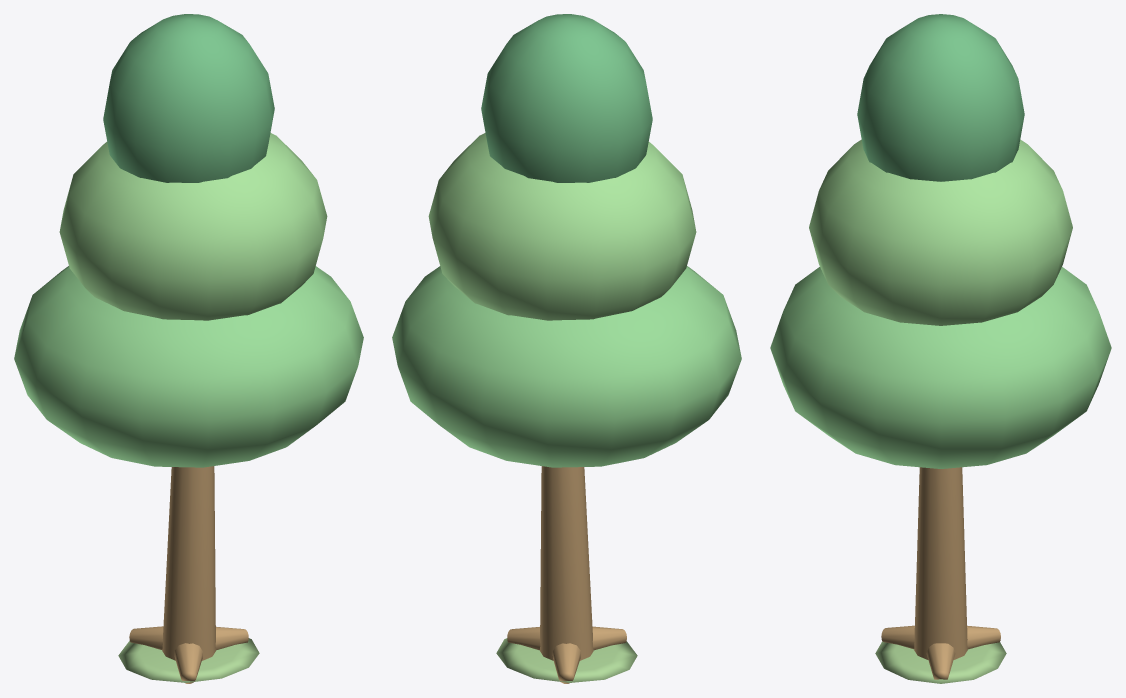
The model's file is tree_v3_summer.glb.
3 renders of one model, left to right at view 1: azimuth 30°, elevation 25°; view 2: azimuth 150°, elevation 25°; view 3: azimuth 270°, elevation 25°, orthographic.
Parts seen in each view (by area): view 1: Base_Canopy (×3), Base_Trunk, GroundAccent, Base_Root (×3); view 2: Base_Canopy (×3), Base_Trunk, GroundAccent, Base_Root (×3); view 3: Base_Canopy (×3), Base_Trunk, GroundAccent, Base_Root (×3).
Part boxes in pixels (box(x1,y1,x2,y2)): Base_Canopy (×3): box(14, 14, 363, 467); Base_Trunk: box(162, 466, 215, 660); GroundAccent: box(118, 638, 259, 682); Base_Root (×3): box(129, 626, 248, 683); Base_Canopy (×3): box(392, 14, 741, 467); Base_Trunk: box(540, 466, 593, 660); GroundAccent: box(496, 638, 637, 682); Base_Root (×3): box(507, 626, 626, 683); Base_Canopy (×3): box(770, 14, 1111, 468); Base_Trunk: box(914, 467, 967, 659); GroundAccent: box(875, 641, 1006, 683); Base_Root (×3): box(881, 625, 1000, 679).
Bounding box in the file's own units: 2.75 × 5.45 × 2.65.
